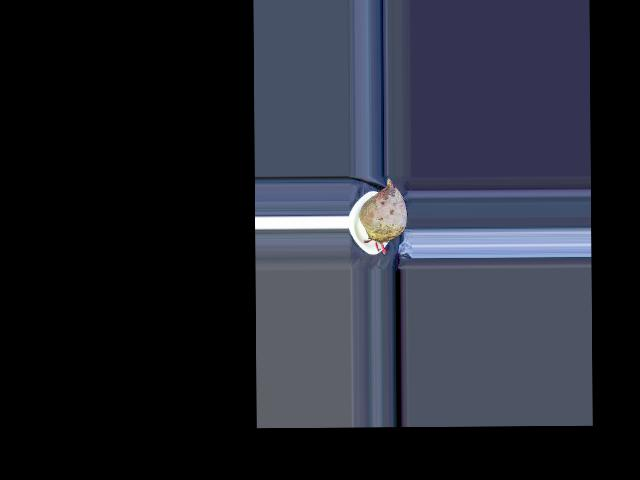beet: (359, 179, 406, 254)
